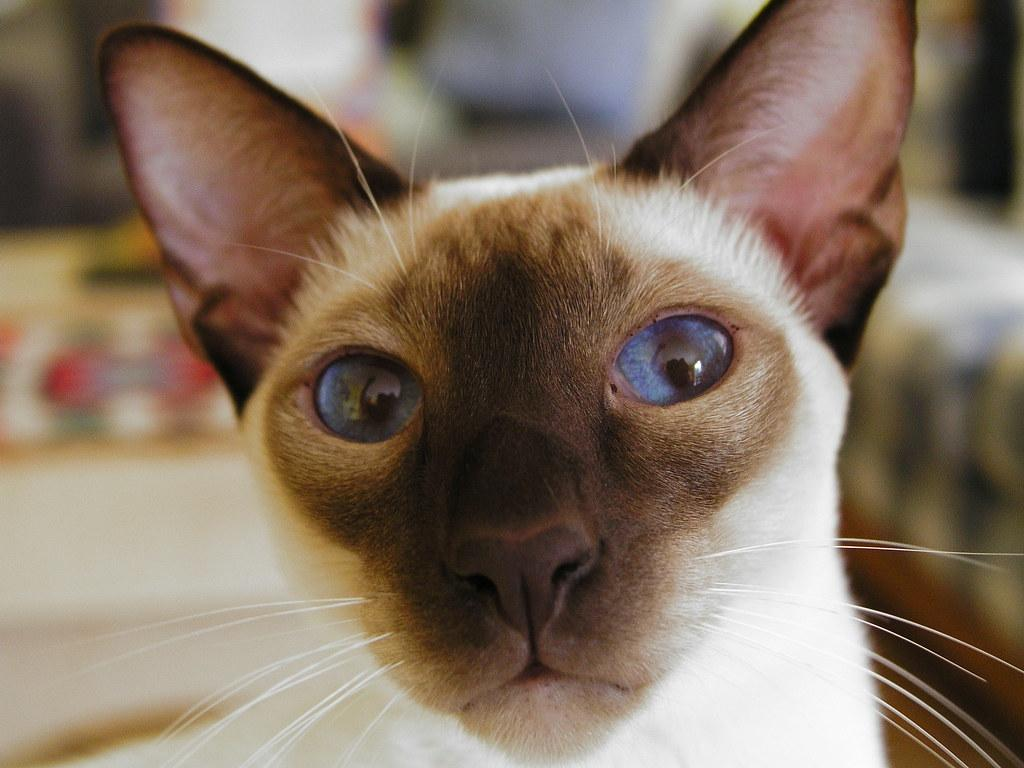siamese: (79, 1, 938, 768)
